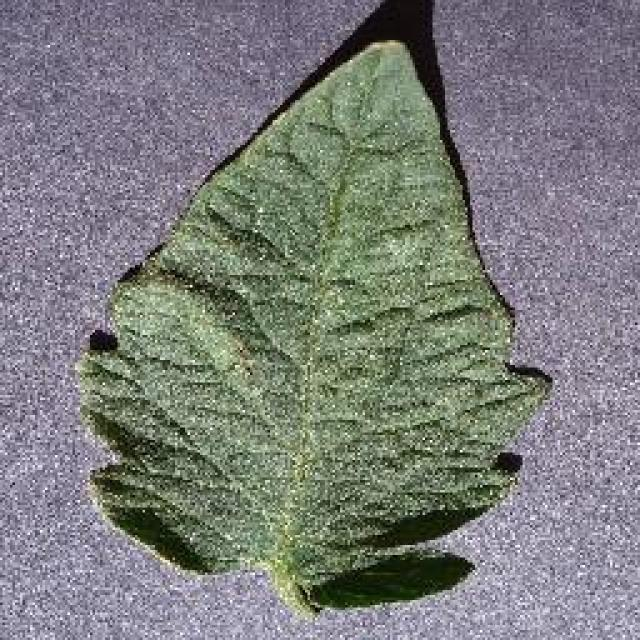Tomato_Healthy: (68, 11, 565, 604)
